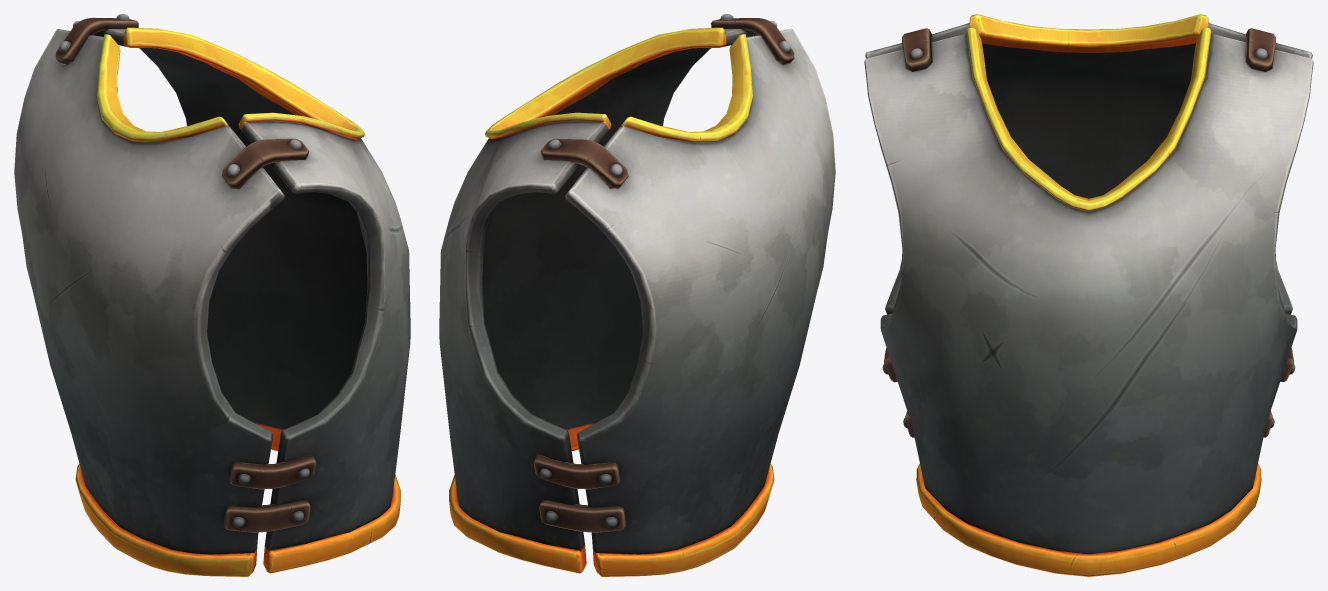
File: SM_Knight_Chestplate.fbx
3 views of the same model, side by side, from view 1: azimuth 30°, elevation 25°; view 2: azimuth 150°, elevation 25°; view 3: azimuth 270°, elevation 25° (orthographic).
Parts seen in each view (by area): view 1: SM_Knight_Chestplate_LOD0; view 2: SM_Knight_Chestplate_LOD0; view 3: SM_Knight_Chestplate_LOD0.
Part boxes in pixels (box(x1,y1,x2,y2)): SM_Knight_Chestplate_LOD0: box(14, 14, 410, 576); SM_Knight_Chestplate_LOD0: box(439, 14, 835, 576); SM_Knight_Chestplate_LOD0: box(864, 14, 1313, 576).
Size of the model in its own units: 43.4 by 52.38 by 59.57.
Materials: 1 (1 with a texture image).
